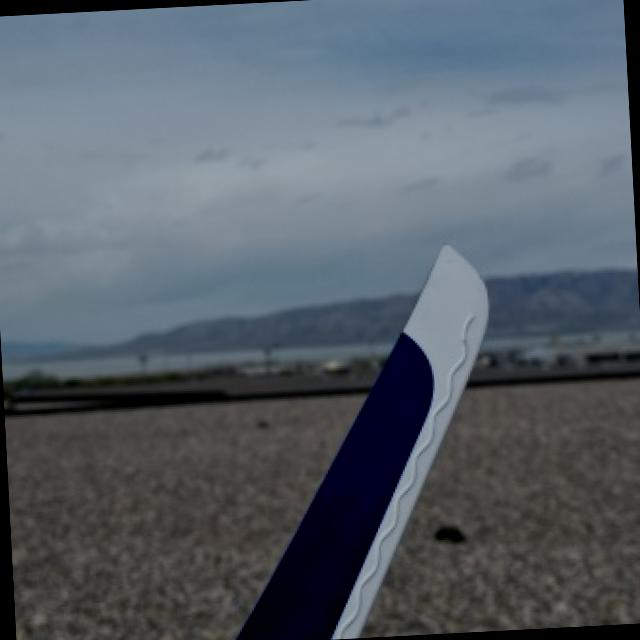healthy: (235, 243, 485, 640)
